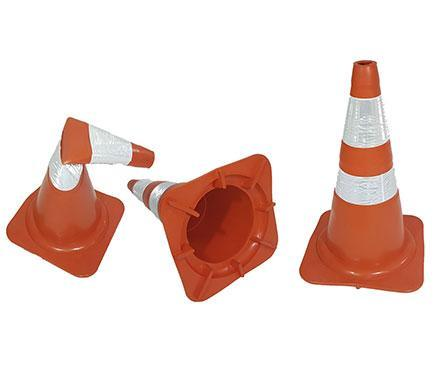traffic cone: (299, 60, 426, 294)
